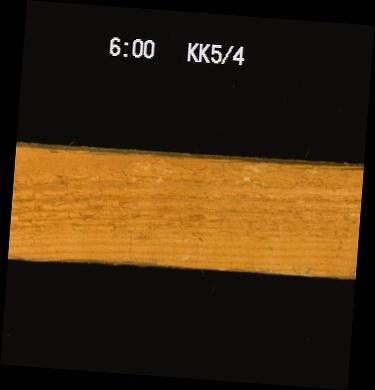split: (291, 162, 362, 173), (189, 155, 252, 165)
